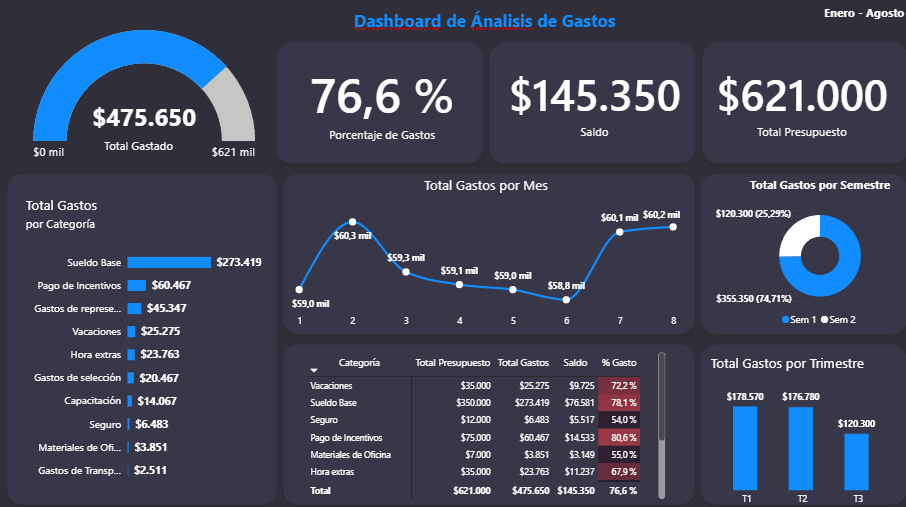

This screenshot's page, from the dashboard's own definition file:
{"tool":"powerbi","page":{"name":"Página 1","canvas":[1920,1080],"ordinal":0},"visuals":[{"type":"gauge","fields":{"MaxValue":["Presupuesto2.Total Presupuesto"],"Y":["Gastos1.Total Gastos"]},"box":[353.3,190,341.7,248.3],"z":0},{"type":"textbox","box":[470,370,108.3,40],"z":1000},{"type":"cardVisual","fields":{"Data":["Gastos1.% Gasto"]},"box":[715.1,259.9,284.3,123.8],"z":1001},{"type":"cardVisual","fields":{"Data":["Gastos1.Saldo"]},"box":[999.4,252.9,308.7,137.8],"z":1002},{"type":"cardVisual","fields":{"Data":["Presupuesto2.Total Presupuesto"]},"box":[1289,252.9,308.7,137.8],"z":1003},{"type":"clusteredBarChart","fields":{"Category":["Presupuesto2.Categoría"],"Y":["Gastos1.Total Gastos"]},"box":[343.6,437.8,361,434.3],"z":1004},{"type":"lineChart","title":"Total Gastos por Mes","fields":{"Category":["Calendario.Mes Num"],"Y":["Gastos1.Total Gastos"]},"box":[715.1,409.9,573.8,245.9],"z":1005},{"type":"pivotTable","fields":{"Rows":["Presupuesto2.Categoría"],"Values":["Presupuesto2.Total Presupuesto","Gastos1.Total Gastos","Gastos1.Saldo","Gastos1.% Gasto"]},"box":[736.7,656.7,531.7,235],"z":1006},{"type":"donutChart","fields":{"Category":["Calendario.Semestre"],"Y":["Gastos1.Total Gastos"]},"box":[1298.6,410,337.1,244.3],"z":1007},{"type":"clusteredColumnChart","fields":{"Category":["Calendario.Trimestre"],"Y":["Gastos1.Total Gastos"]},"box":[1298.6,657.1,288.6,245.7],"z":1008},{"type":"textbox","box":[681.4,190,642.9,150],"z":1009},{"type":"textbox","box":[1474.3,184.3,122.9,150],"z":1010}]}

Visuals, with their boxes in screenshot pixels (x1, y1, x2, y2), scaled from the page's 1920x1080 canvas onto the 906x507 screenshot:
gauge - Presupuesto2.Total Presupuesto x Gastos1.Total Gastos: box=[167, 89, 328, 206]
textbox: box=[222, 174, 273, 192]
cardVisual - Gastos1.% Gasto: box=[337, 122, 472, 180]
cardVisual - Gastos1.Saldo: box=[472, 119, 617, 183]
cardVisual - Presupuesto2.Total Presupuesto: box=[608, 119, 754, 183]
clusteredBarChart - Presupuesto2.Categoría x Gastos1.Total Gastos: box=[162, 206, 332, 409]
"Total Gastos por Mes" lineChart: box=[337, 192, 608, 308]
pivotTable - Presupuesto2.Categoría x Presupuesto2.Total Presupuesto: box=[348, 308, 599, 419]
donutChart - Calendario.Semestre x Gastos1.Total Gastos: box=[613, 192, 772, 307]
clusteredColumnChart - Calendario.Trimestre x Gastos1.Total Gastos: box=[613, 308, 749, 424]
textbox: box=[322, 89, 625, 160]
textbox: box=[696, 87, 754, 157]
